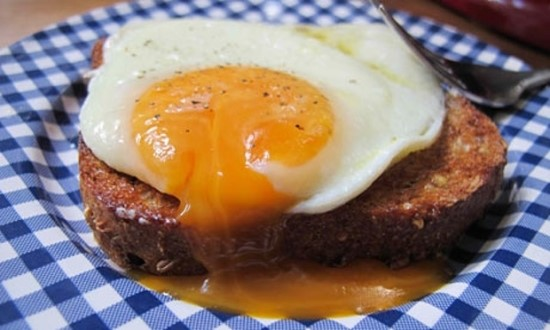fried egg: (78, 14, 454, 202)
slice of bread: (71, 192, 509, 260)
